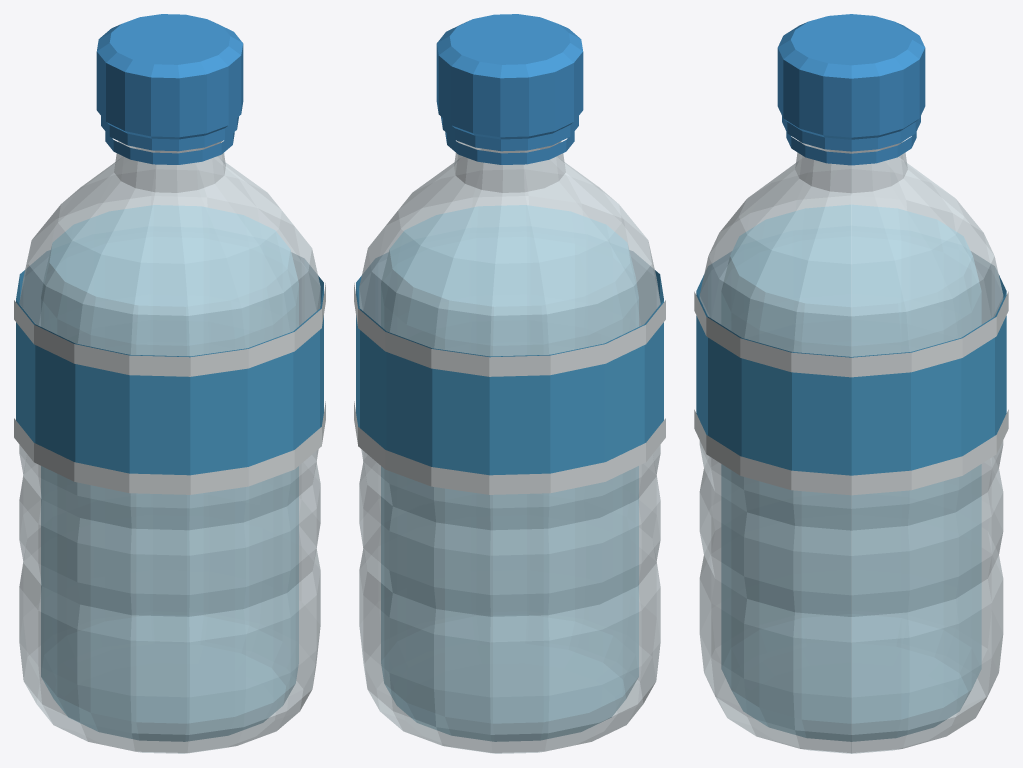
The model's file is 09_plastic_water_bottle_clear_330ml.glb.
3 renders of one model, left to right at view 1: azimuth 30°, elevation 25°; view 2: azimuth 150°, elevation 25°; view 3: azimuth 270°, elevation 25°, orthographic.
Parts seen in each view (by area): view 1: ribbed_PET_bottle_shell; view 2: ribbed_PET_bottle_shell; view 3: ribbed_PET_bottle_shell.
Boxes of the visible parts, bbox=[...] form: ribbed_PET_bottle_shell: bbox=[14, 14, 325, 753]; ribbed_PET_bottle_shell: bbox=[354, 14, 665, 753]; ribbed_PET_bottle_shell: bbox=[694, 14, 1008, 753].
Bounding box in the file's own units: 0.0724 × 0.17 × 0.0724.
